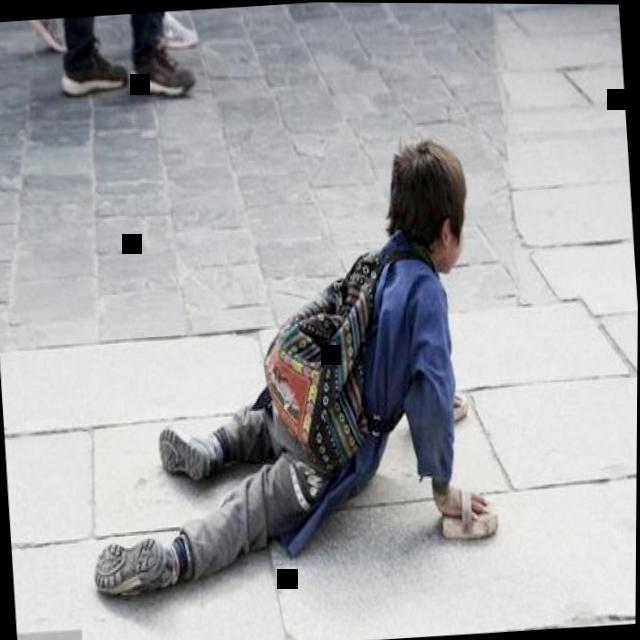Fall-Detected: (53, 107, 528, 615)
